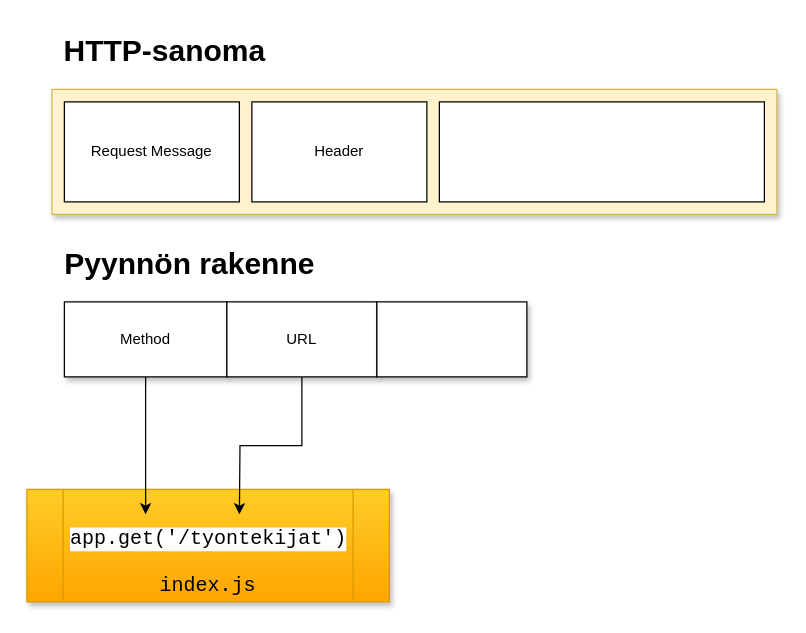
Image size: 806x633. Some labels were removed from this diagram. Here are the shapes that lost their labels. From the top down, the centre of each, then its label:
At (x=601, y=151): "Body".
At (x=452, y=341): "Version".
